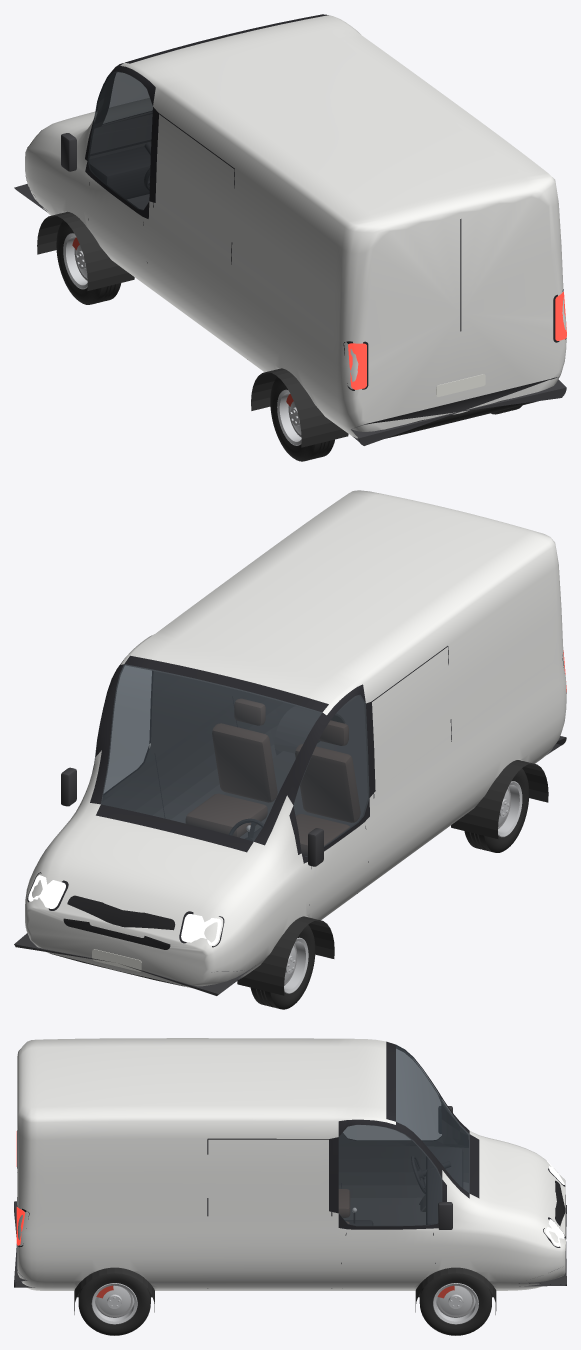
The model's file is t_van.glb.
3 renders of one model, top to bottom at view 1: azimuth 30°, elevation 25°; view 2: azimuth 150°, elevation 25°; view 3: azimuth 270°, elevation 25°, orthographic. The views are drawn at different scales.
Parts seen in each view (by area): view 1: Body.003, Glass.003, ArchLiners.003, Bumper_Rear.002, Interior_Shell.003, Interior.003, Wheel_FL.003, Wheel_RL.003, Lights_Tail.003, Plate_Rear.003, Mirror_Housing.003; view 2: Body.003, Glass.003, Interior.003, Interior_Shell.003, ArchLiners.003, Grille.002, Wheel_FL.003, Wheel_RL.003, Lights_Head.003, Mirror_Housing.003, Bumper_Front.001; view 3: Body.003, Glass.003, Interior_Shell.003, Wheel_RR.003, Wheel_FR.003, Interior.003, ArchLiners.003, Mirror_Housing.003, SteeringWheel.003.
Boxes of the visible parts, x1,y1,x2,y2 form: Body.003: (25,14,566,438); Glass.003: (87,71,152,210); ArchLiners.003: (37,211,348,447); Bumper_Rear.002: (351,377,566,445); Interior_Shell.003: (87,71,152,210); Interior.003: (89,146,150,199); Wheel_FL.003: (56,220,121,304); Wheel_RL.003: (270,377,334,461); Lights_Tail.003: (348,291,566,389); Plate_Rear.003: (436,374,485,396); Mirror_Housing.003: (61,133,76,171); Body.003: (25,490,566,988); Glass.003: (94,664,369,856); Interior.003: (185,695,367,856); Interior_Shell.003: (101,664,369,856); ArchLiners.003: (237,715,548,995); Grille.002: (63,895,175,949); Wheel_FL.003: (250,925,315,1009); Wheel_RL.003: (464,768,529,852); Lights_Head.003: (28,875,221,945); Mirror_Housing.003: (61,767,323,866); Bumper_Front.001: (14,927,255,995); Body.003: (17,1038,565,1290); Glass.003: (338,1045,469,1226); Interior_Shell.003: (338,1046,469,1226); Wheel_RR.003: (78,1273,150,1335); Wheel_FR.003: (419,1273,491,1335); Interior.003: (338,1148,463,1225); ArchLiners.003: (74,1208,496,1314); Mirror_Housing.003: (438,1106,452,1229); SteeringWheel.003: (411,1155,451,1194).
Size of what is drawn, in the model's own units: 2.28 by 2.35 by 5.35.
